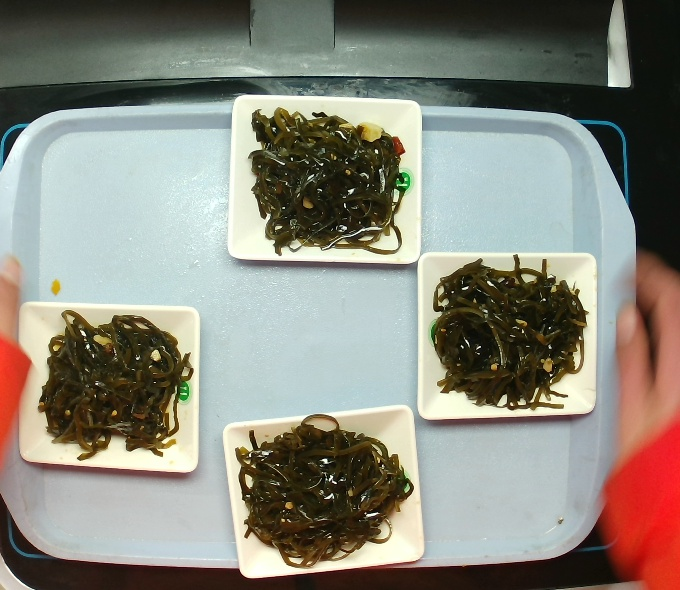wcq-LiangBanHaiDai: (424, 243, 593, 412), (236, 105, 413, 253), (230, 424, 408, 558), (42, 309, 179, 454)
